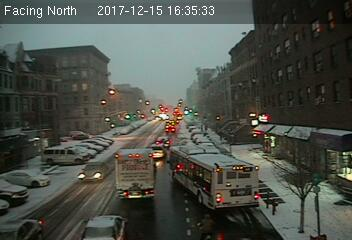bus: (169, 145, 260, 213)
car: (76, 213, 127, 240), (79, 161, 109, 184), (150, 143, 166, 160)
truck: (114, 148, 156, 202)
